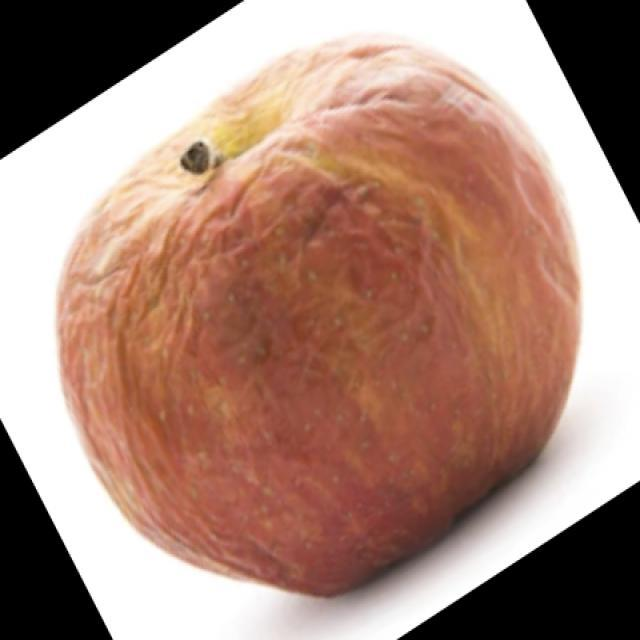Rotten: (44, 26, 588, 566)
